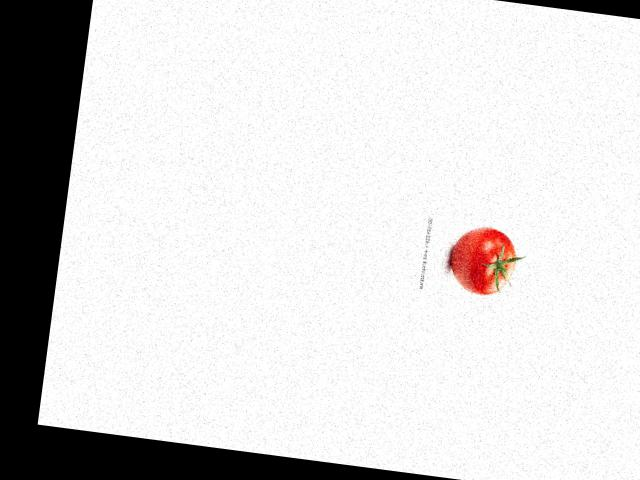tomato: (446, 223, 519, 297)
